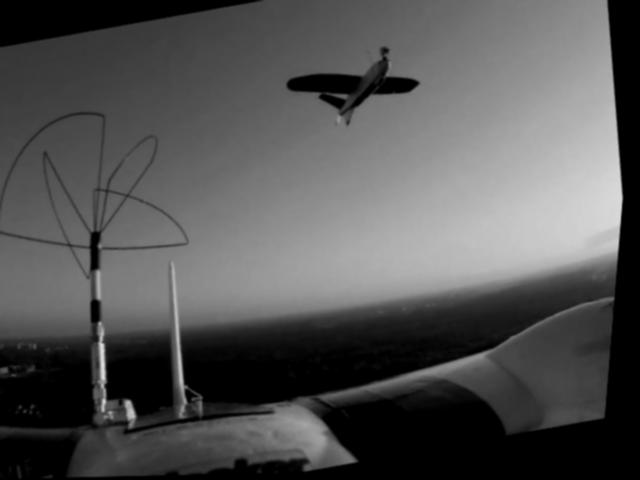hedef: (280, 35, 446, 147)
